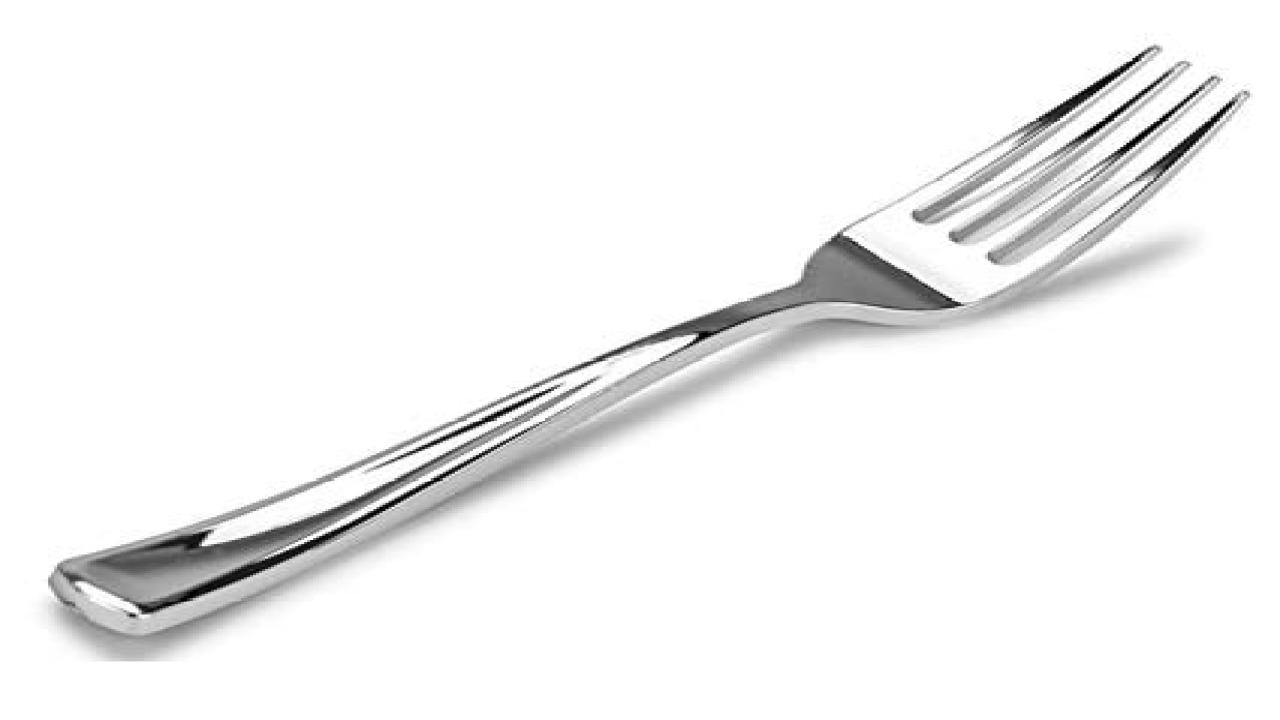fork: (45, 44, 1250, 638)
